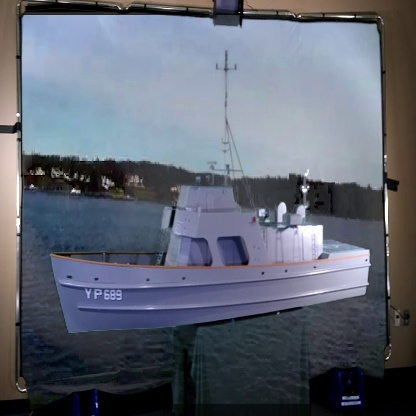YP689: (50, 51, 371, 340)
